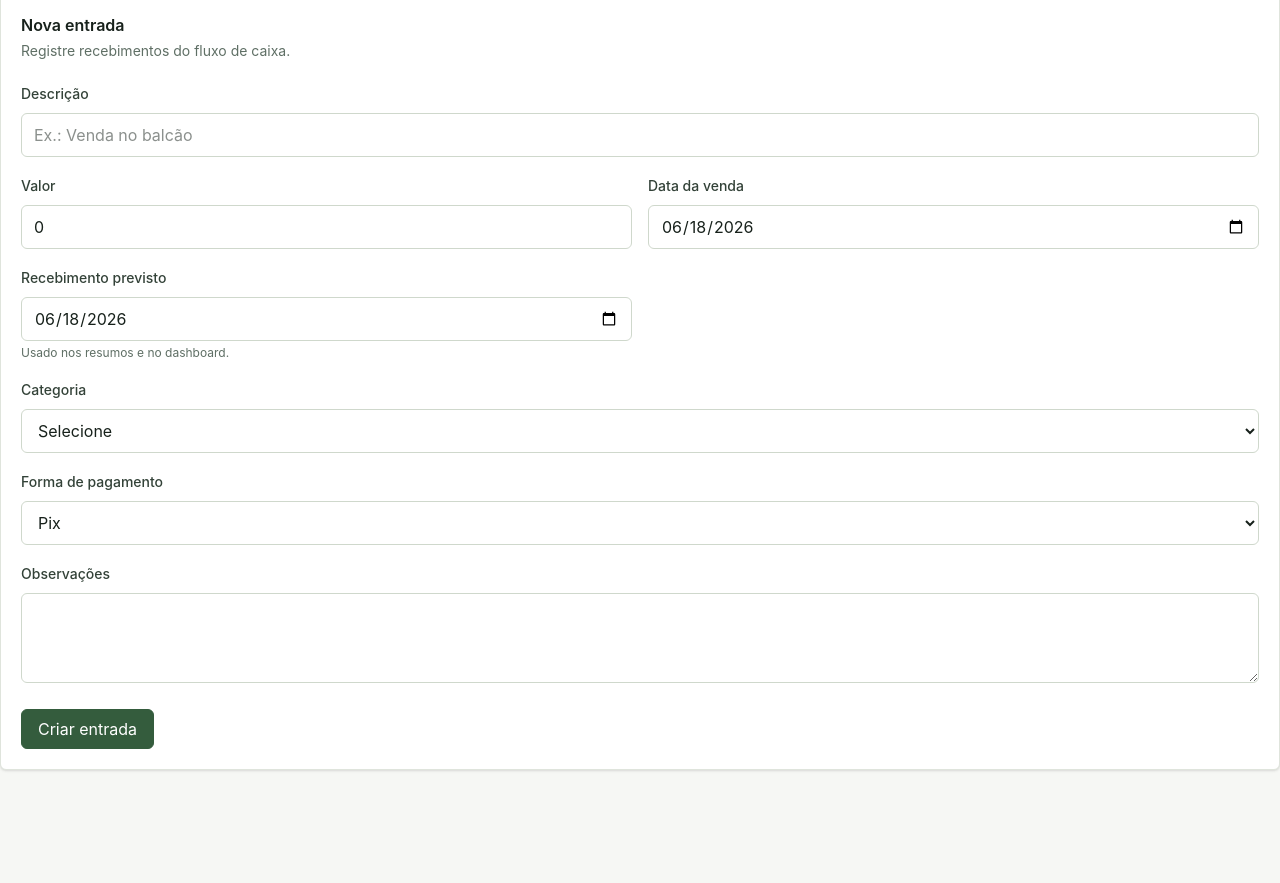
CashEntryForm › keeps installment amount as an informational preview without changing totals
The width and height of the screenshot is (1280, 883).
Replace the text in the number field labelled "Valor" with "100" at (326, 227), box [21, 205, 632, 249]
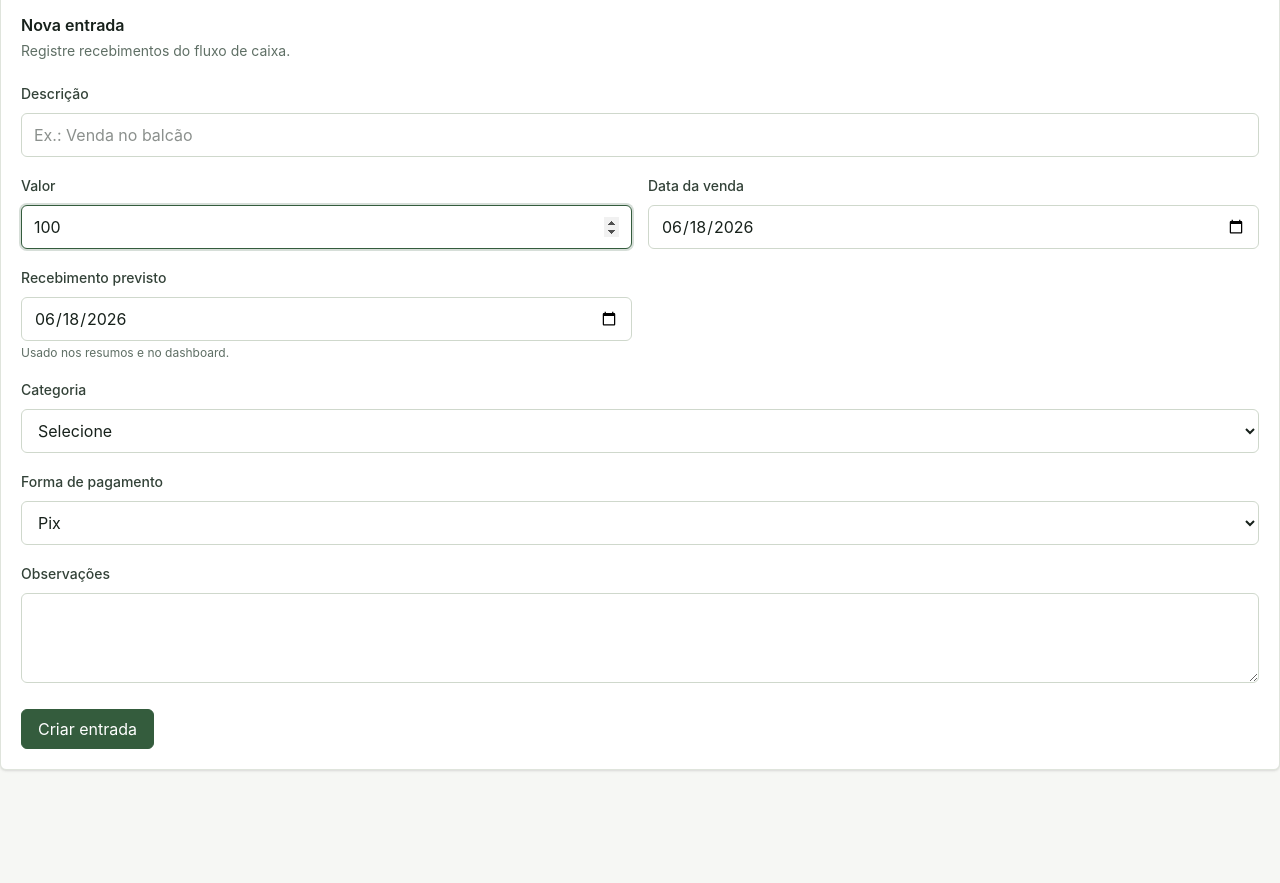
Select "Cartão de crédito" in the dropdown labelled "Forma de pagamento" at (640, 523), box [21, 501, 1259, 545]
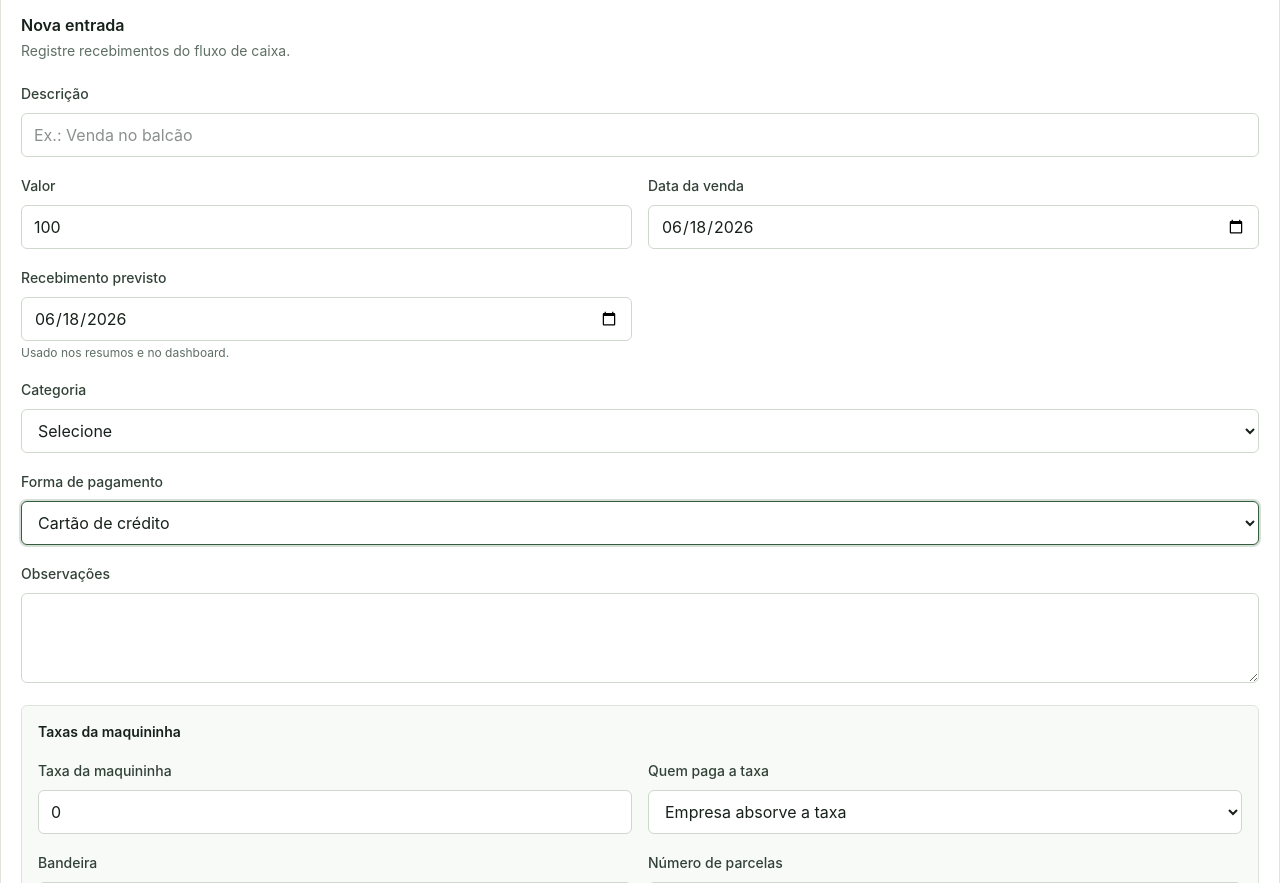
Replace the text in the number field labelled "Taxa da maquininha" with "10" at (335, 812), box [38, 790, 632, 834]
(page scrolled)
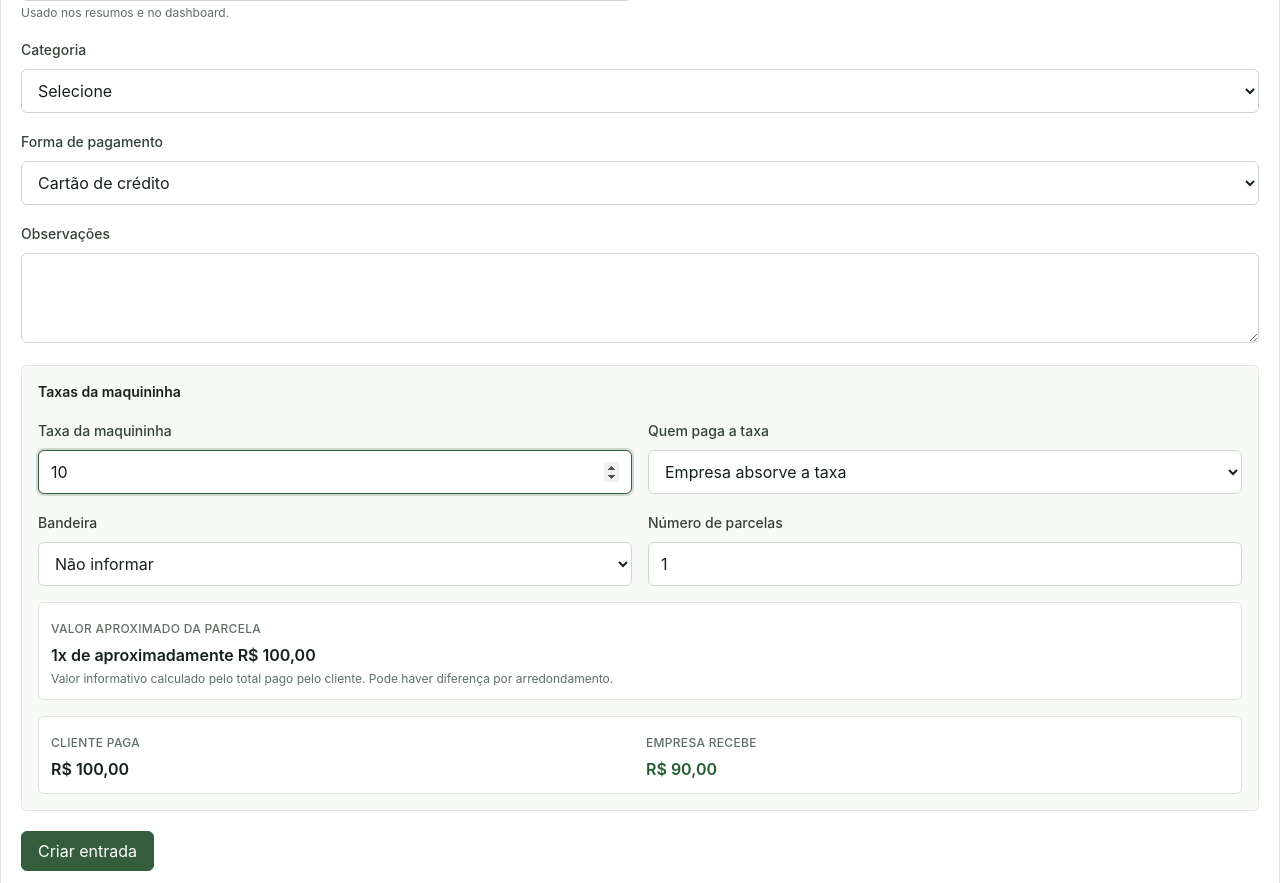
expect the text "R$ 100,00" is shown: met, box [51, 759, 129, 779]
expect the text "R$ 90,00" is shown: met, box [646, 759, 717, 779]
Replace the text in the number field labelled "Número de parcelas" with "3" at (945, 564), box [648, 542, 1242, 586]
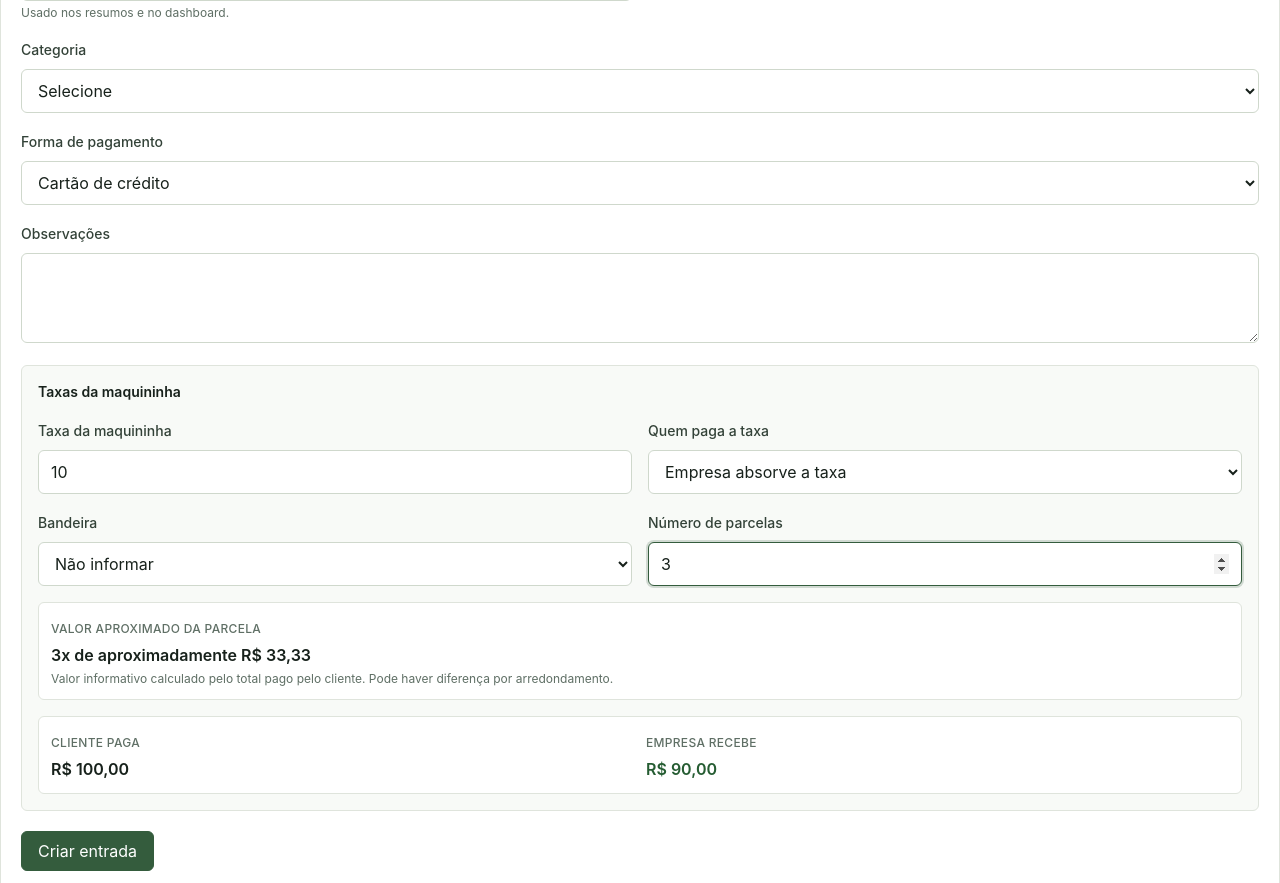
expect the text "R$ 100,00" is shown: met, box [51, 759, 129, 779]
expect the text "R$ 90,00" is shown: met, box [646, 759, 717, 779]
expect the text "3x de aproximadamente R$ 33,33" is shown: met, box [51, 645, 311, 665]
